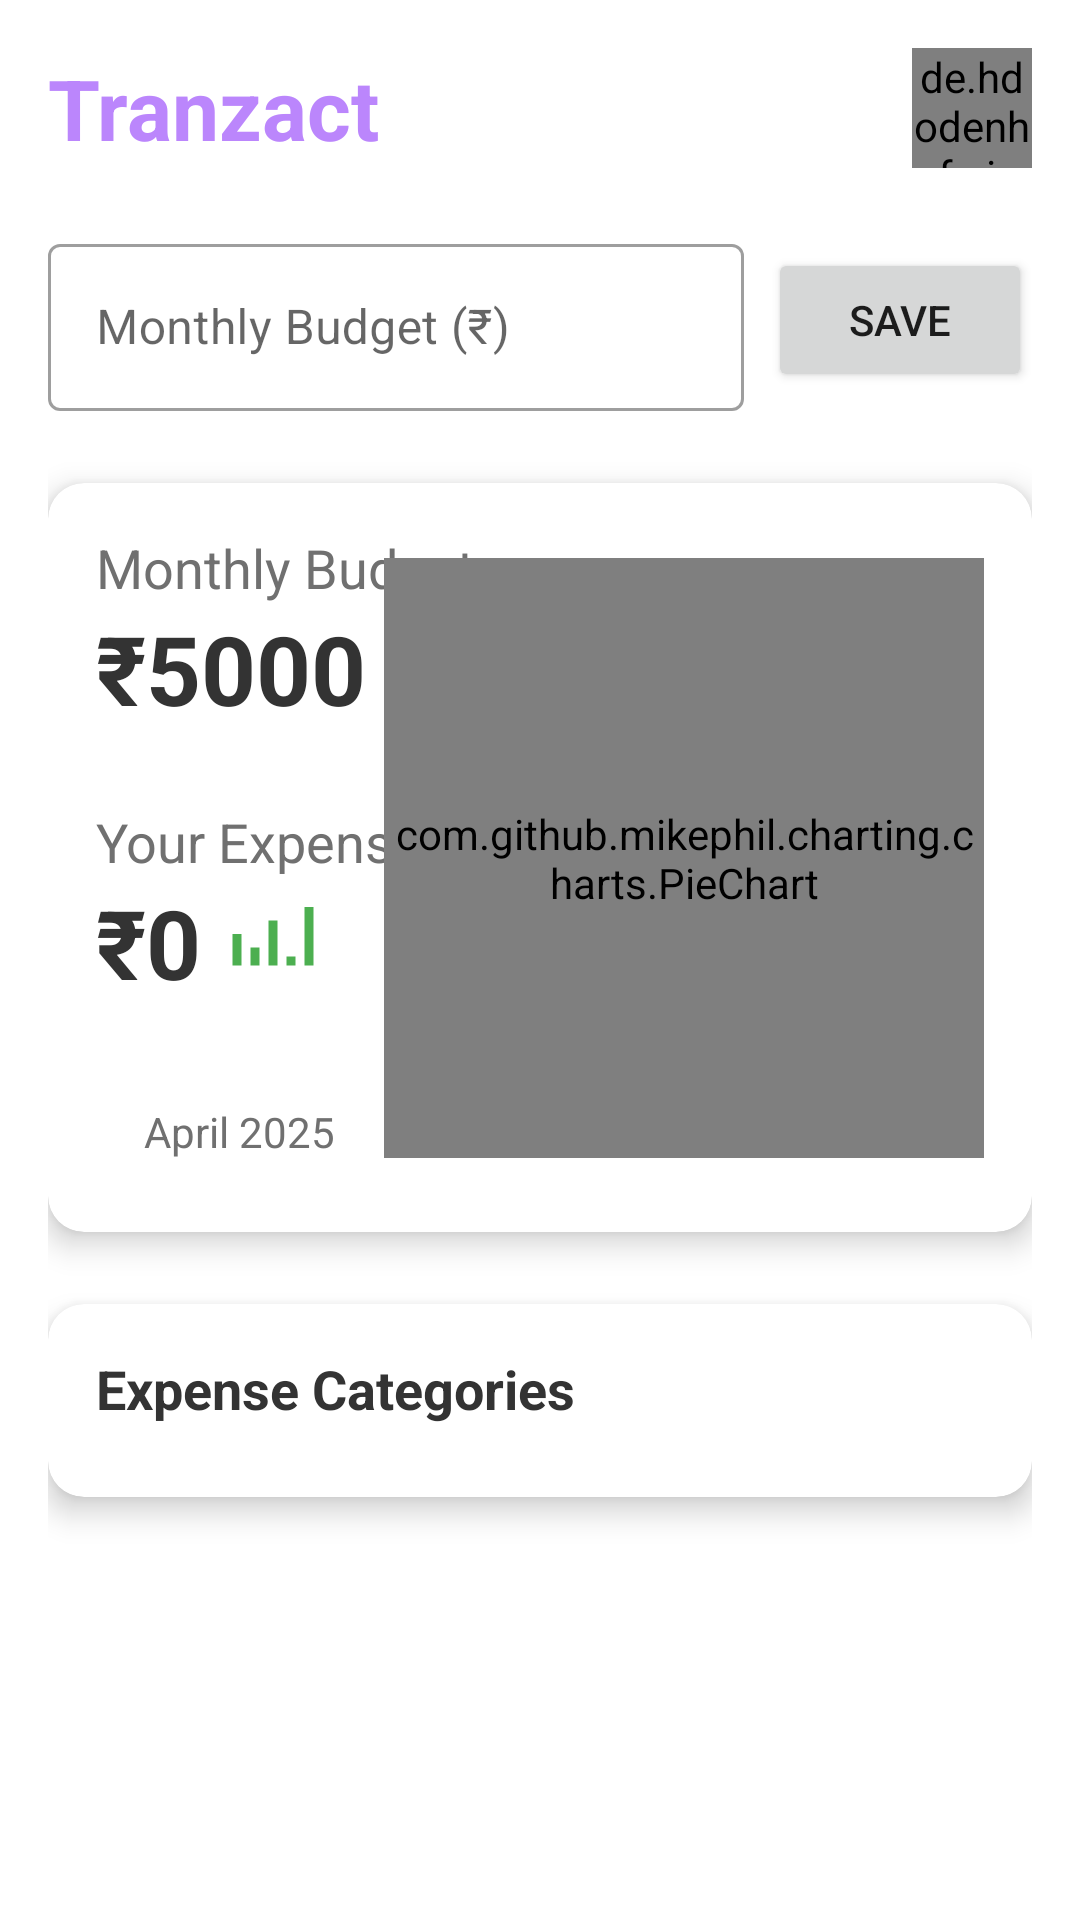

Icon click points for this 1080px x 1920px phone screenshot, format point (x, y):
analysis: point (273, 936)
